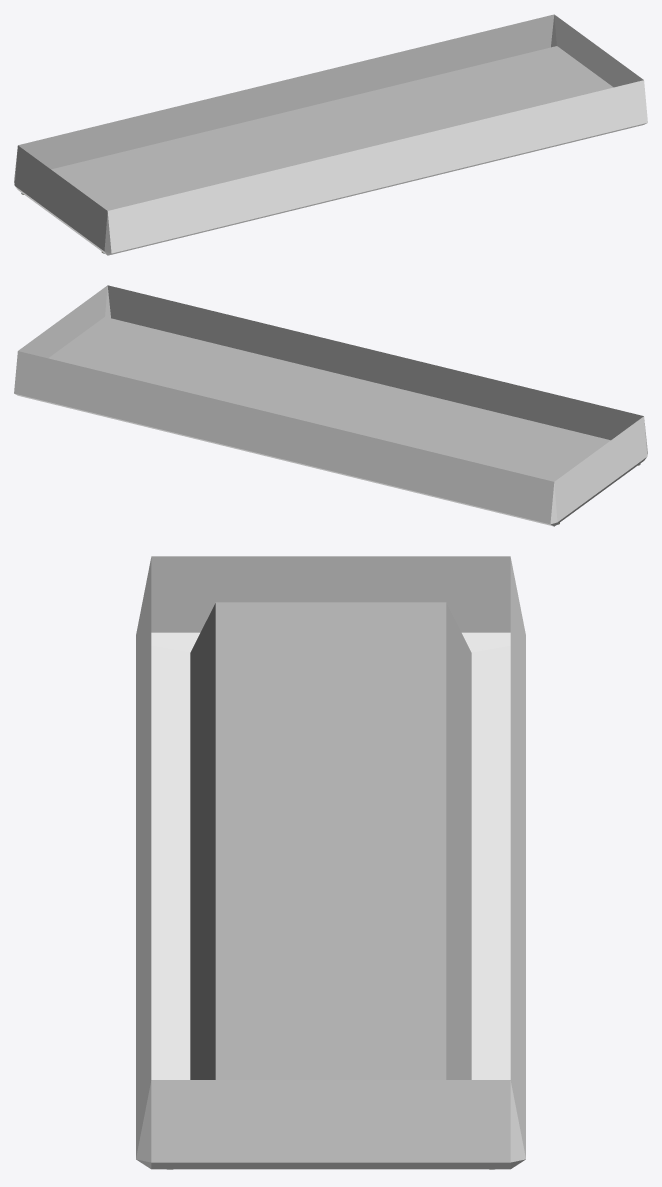
Rendered from NeonLamp_Clean.fbx.
3 views of the same model, one above another, from view 1: azimuth 30°, elevation 25°; view 2: azimuth 150°, elevation 25°; view 3: azimuth 270°, elevation 25° (orthographic). The views are drawn at different scales.
Visible parts, largest first — view 1: NeonLamp_Clean; view 2: NeonLamp_Clean; view 3: NeonLamp_Clean.
Boxes of the visible parts, <box> form: NeonLamp_Clean: <box>14,14,647,255</box>; NeonLamp_Clean: <box>14,285,647,526</box>; NeonLamp_Clean: <box>136,556,525,1169</box>.
Size of the model in its own units: 152 by 12.26 by 47.39.
